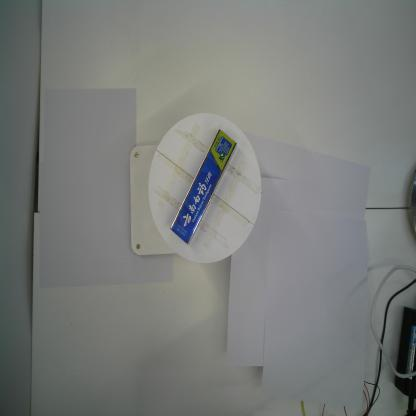Personal Hygiene: (168, 127, 238, 248)
